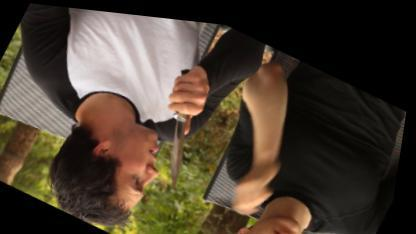knife: (128, 57, 233, 194)
